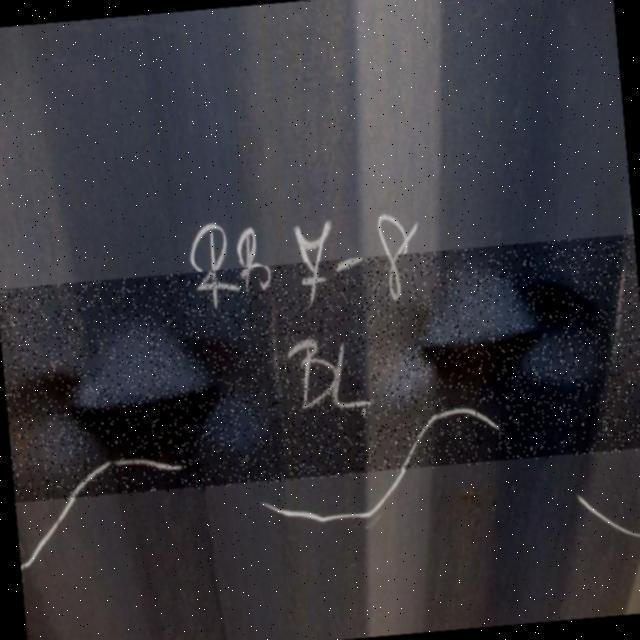dent: (1, 235, 640, 506)
